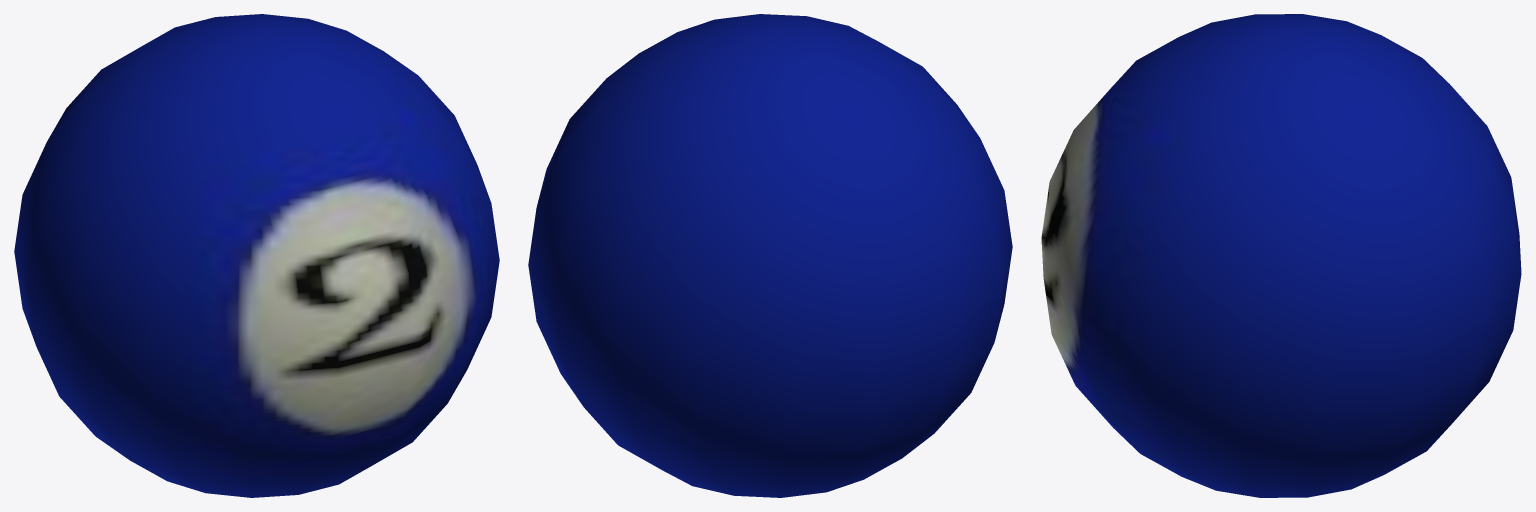
3 views of the same model, side by side, from view 1: azimuth 30°, elevation 25°; view 2: azimuth 150°, elevation 25°; view 3: azimuth 270°, elevation 25° (orthographic).
Visible parts, largest first — view 1: bi_a_02; view 2: bi_a_02; view 3: bi_a_02.
Boxes of the visible parts, x1,y1,x2,y2 form: bi_a_02: [14, 14, 499, 497]; bi_a_02: [528, 14, 1012, 497]; bi_a_02: [1041, 14, 1521, 497].
Bounding box in the file's own units: 12.94 × 13.13 × 12.94.
